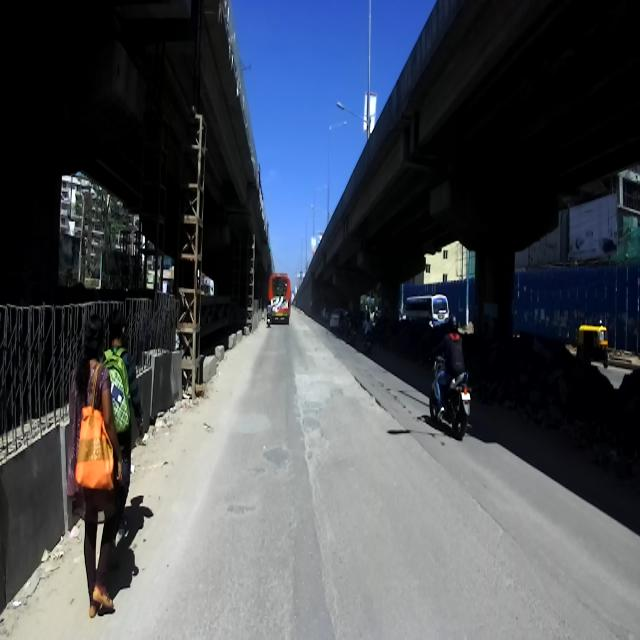barrier ahead at: (172, 89, 205, 407)
bus ahead at: (265, 271, 295, 332)
person ahead at: (70, 303, 146, 616)
